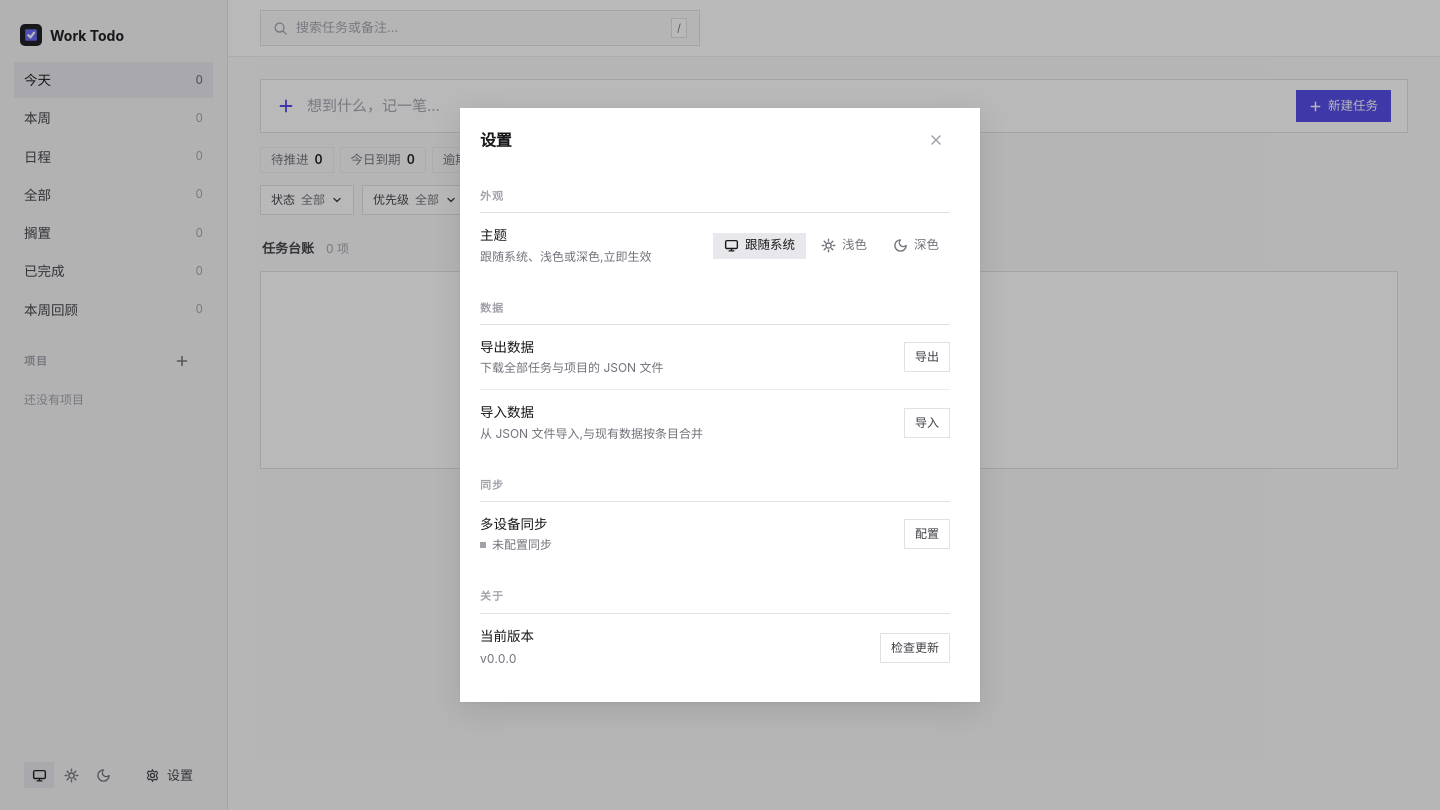
Test case: manual check › opens the update dialog when a newer release exists
What coordinates should you click on to do the following:
click the button with id "btn-check-update"
I would click on:
 (915, 648)
Its box is [880,633,950,663].
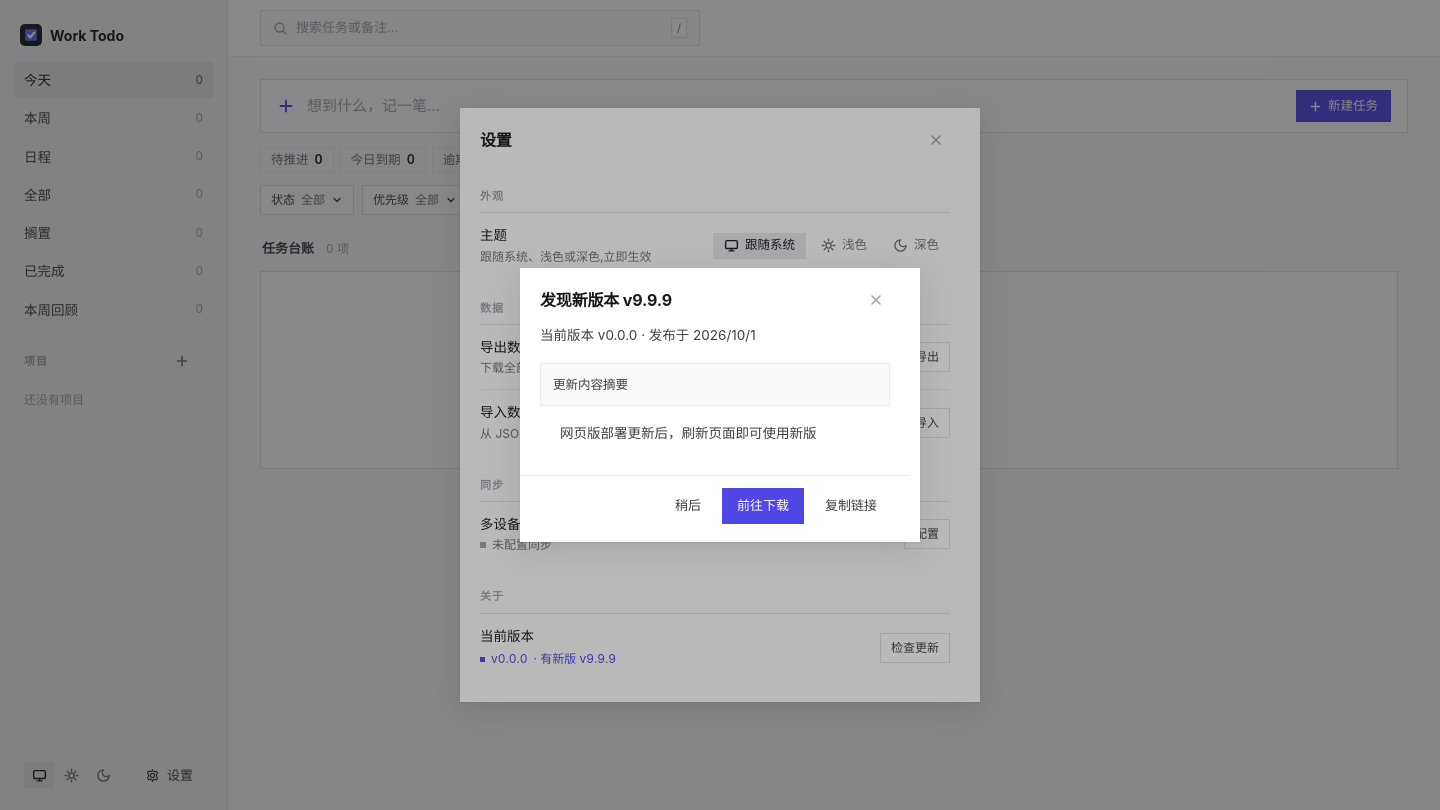
Expected: the dialog with id "update-modal" is shown, [520,268,920,542]
Expected: the heading with id "update-modal-title" reads "发现新版本 v9.9.9", [540,290,672,310]
Expected: the text with id "update-notes" reads "更新内容摘要", [553,377,628,392]
